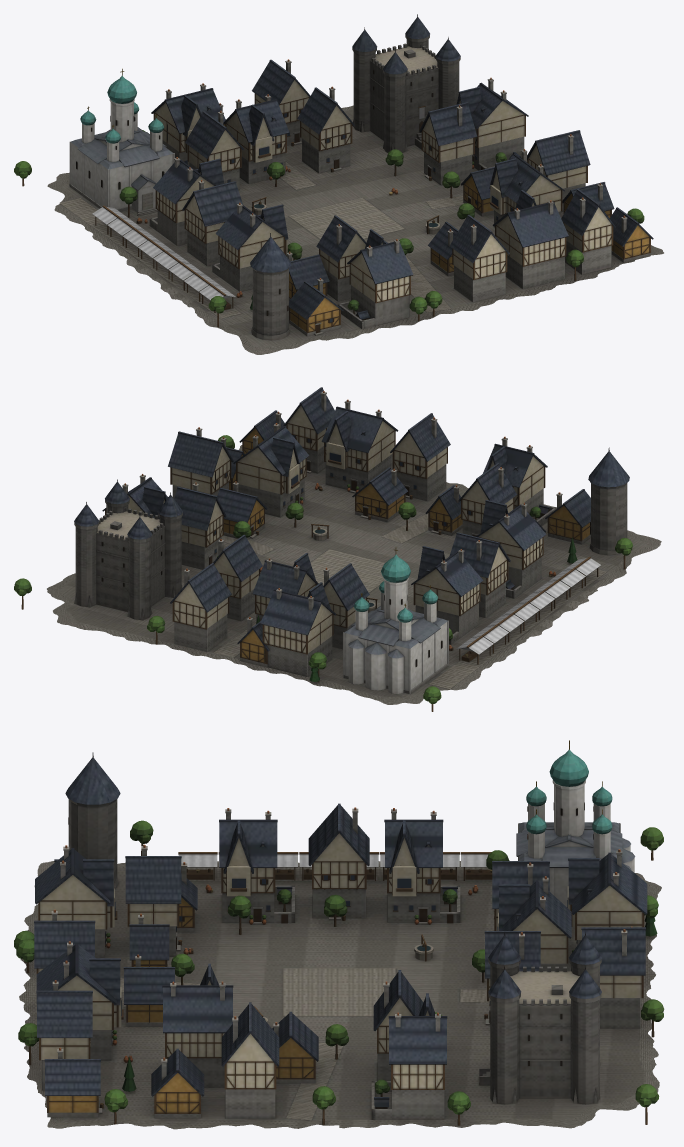
The model's file is kingdoms-town-big-b-easteurope.glb.
3 views of the same model, one above another, from view 1: azimuth 30°, elevation 25°; view 2: azimuth 150°, elevation 25°; view 3: azimuth 270°, elevation 25° (orthographic). The views are drawn at different scales.
Visible parts, largest first — view 1: LOD0; view 2: LOD0; view 3: LOD0.
Boxes of the visible parts, left/top/right/bottom form: LOD0: left=14, top=14, right=663, bottom=354; LOD0: left=14, top=387, right=661, bottom=711; LOD0: left=14, top=740, right=664, bottom=1129.
Size of what is drawn, in the model's own units: 8.06 by 2.26 by 8.12.
3 materials, 3 textured.
